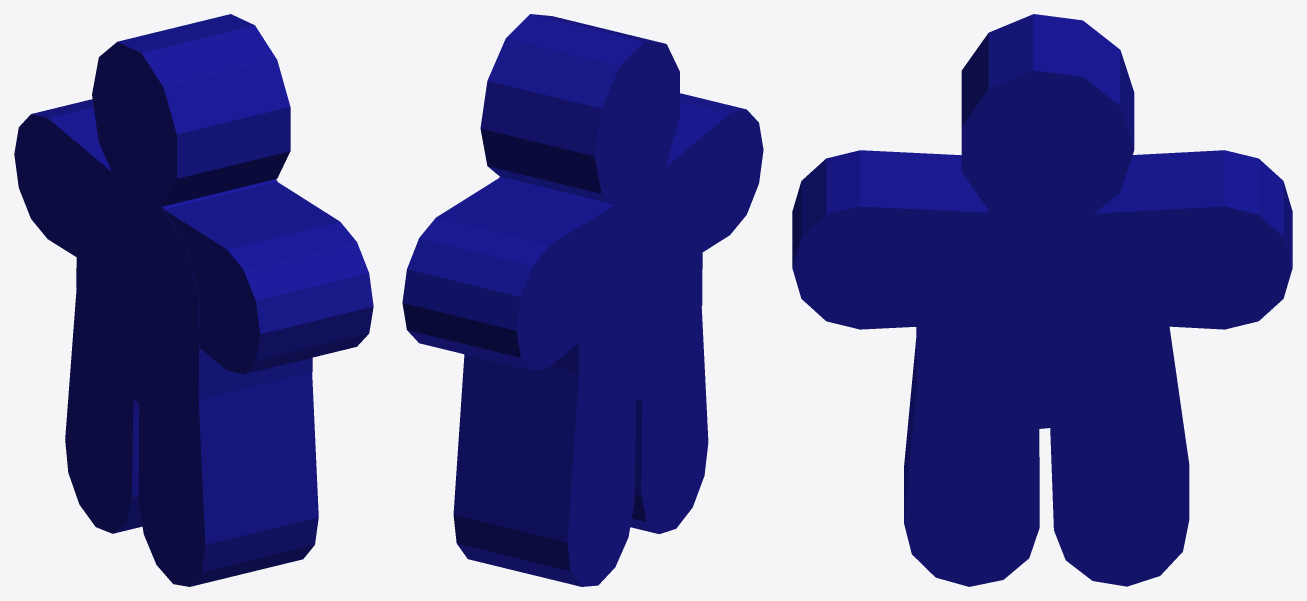
File: uczestnik.fbx
3 renders of one model, left to right at view 1: azimuth 30°, elevation 25°; view 2: azimuth 150°, elevation 25°; view 3: azimuth 270°, elevation 25°, orthographic.
Visible parts, largest first — view 1: Cylinder.005; view 2: Cylinder.005; view 3: Cylinder.005.
Part boxes in pixels (x1,y1,x2,y2): Cylinder.005: (14, 14, 373, 586); Cylinder.005: (402, 14, 763, 586); Cylinder.005: (792, 14, 1292, 586).
Bounding box in the file's own units: 197 × 840 × 737.
